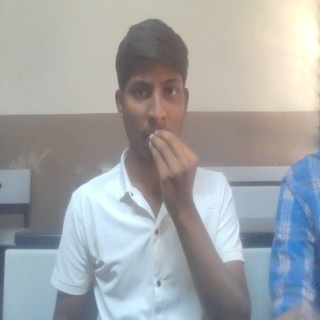Food: (146, 126, 199, 221)
